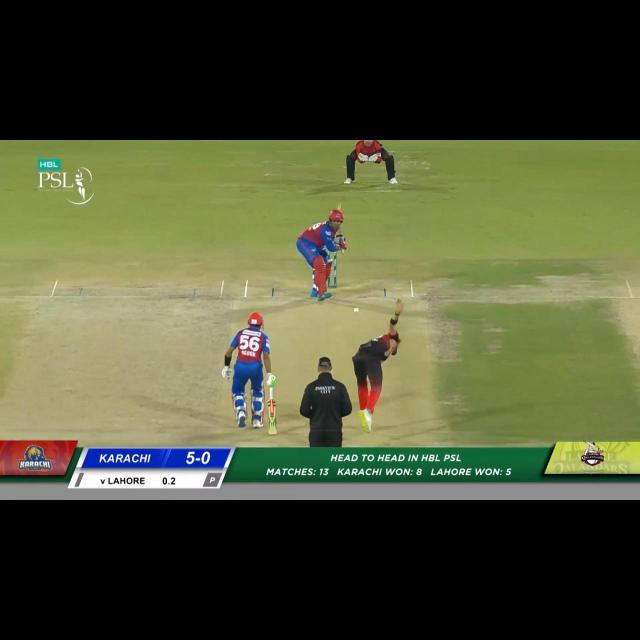bat: (267, 401, 278, 436), (335, 202, 344, 236)
toe: (267, 428, 278, 436), (337, 202, 342, 210)
